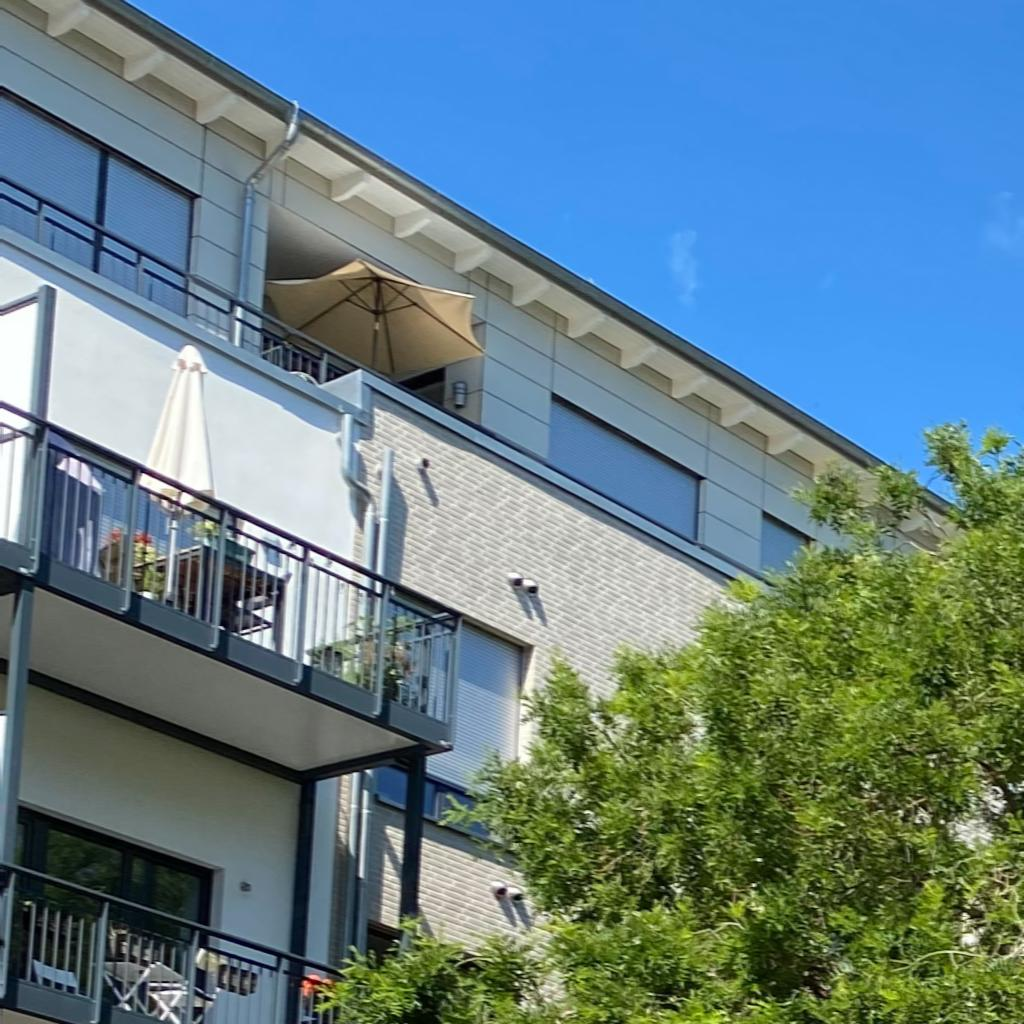tree: (316, 416, 1023, 1023)
